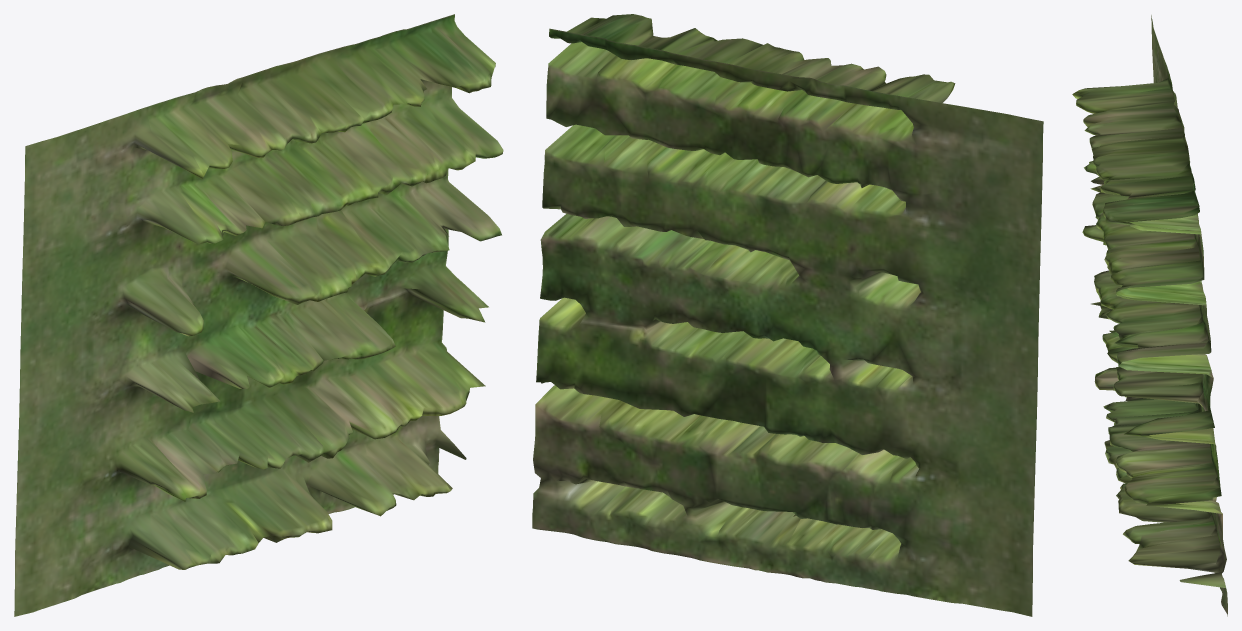
The model's file is map_180_90.obj.
The picture shows the model from 3 angles, left to right: view 1: azimuth 30°, elevation 25°; view 2: azimuth 150°, elevation 25°; view 3: azimuth 270°, elevation 25°; orthographic projection. The views are drawn at different scales.
Visible parts, largest first — view 1: map_180_90.obj; view 2: map_180_90.obj; view 3: map_180_90.obj.
Boxes of the visible parts, x1,y1,x2,y2 form: map_180_90.obj: (14,14,503,616); map_180_90.obj: (532,14,1043,616); map_180_90.obj: (1072,15,1227,616).
Size of the model in its own units: 10 by 10 by 3.43.
Materials: 1 (1 with a texture image).
